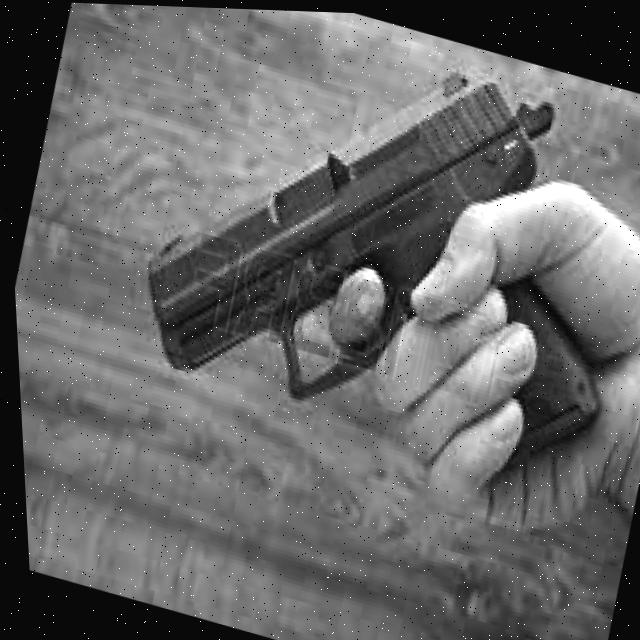pistol: (106, 3, 575, 454)
